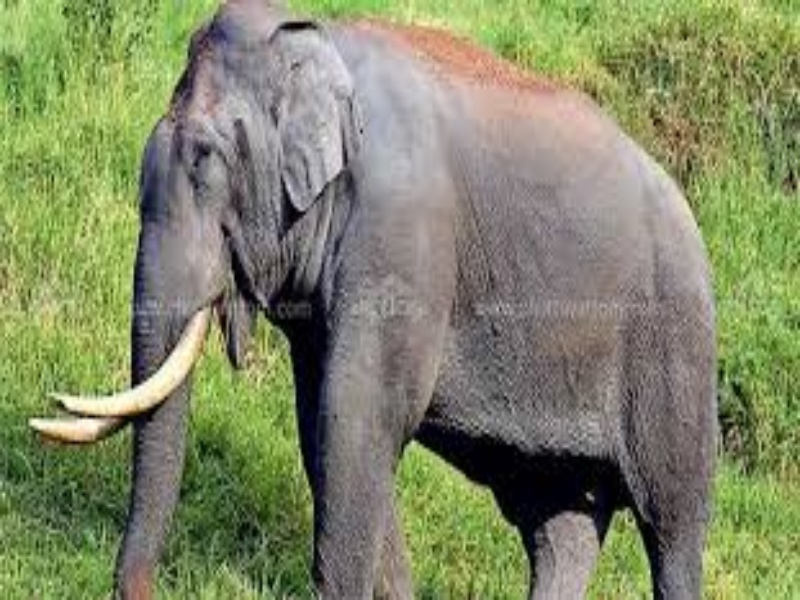elephant: (25, 1, 753, 577)
